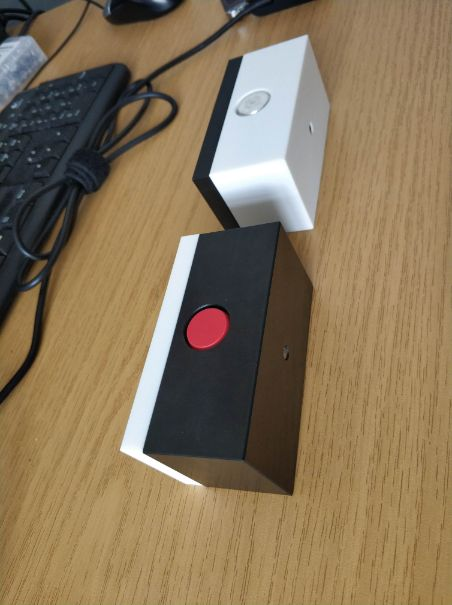black+white+silver: (190, 32, 333, 235)
white+black+red: (117, 222, 320, 504)
